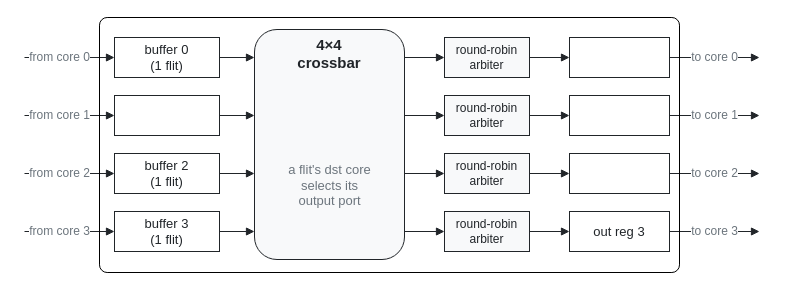
The diagram is 785 pixels wide and 290 high, and some of its shapes have lost their labels. The shapes that lost their labels are listed below. From the top down, each one's centre as x and y in pixels, then its label:
At point (619, 57): "out reg 0".
At point (167, 115): "buffer 1 (1 flit)".
At point (619, 115): "out reg 1".
At point (619, 173): "out reg 2".
